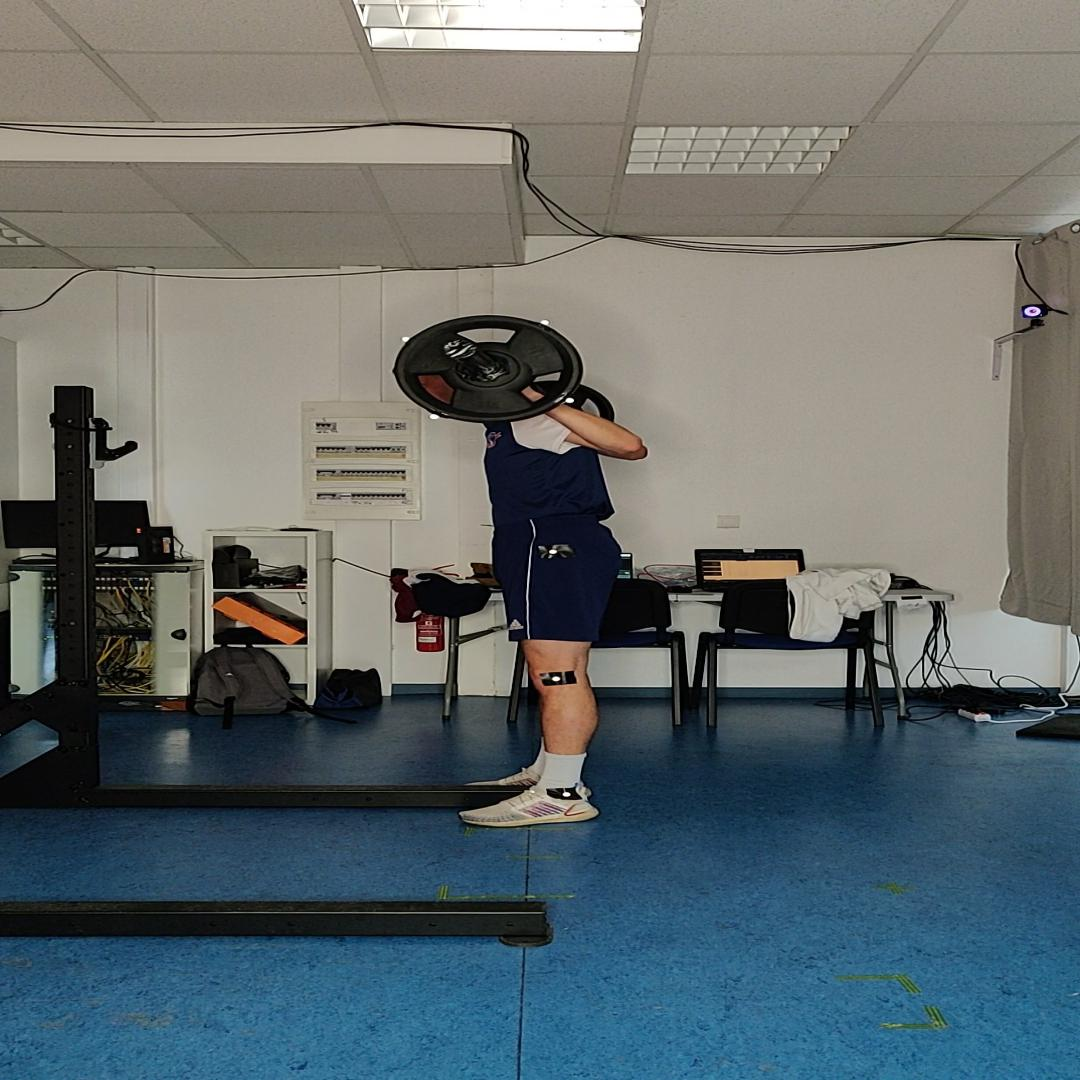Bar: (443, 340, 478, 359)
Barbell: (393, 314, 583, 424)
